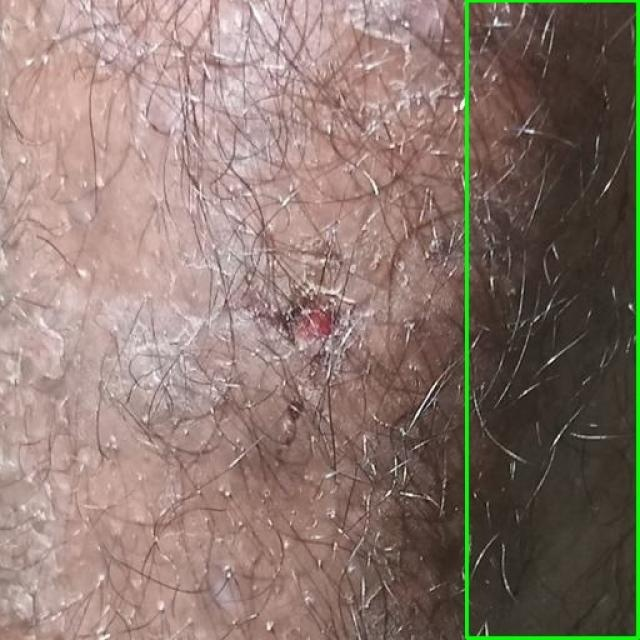Eczema: (468, 0, 639, 639)
